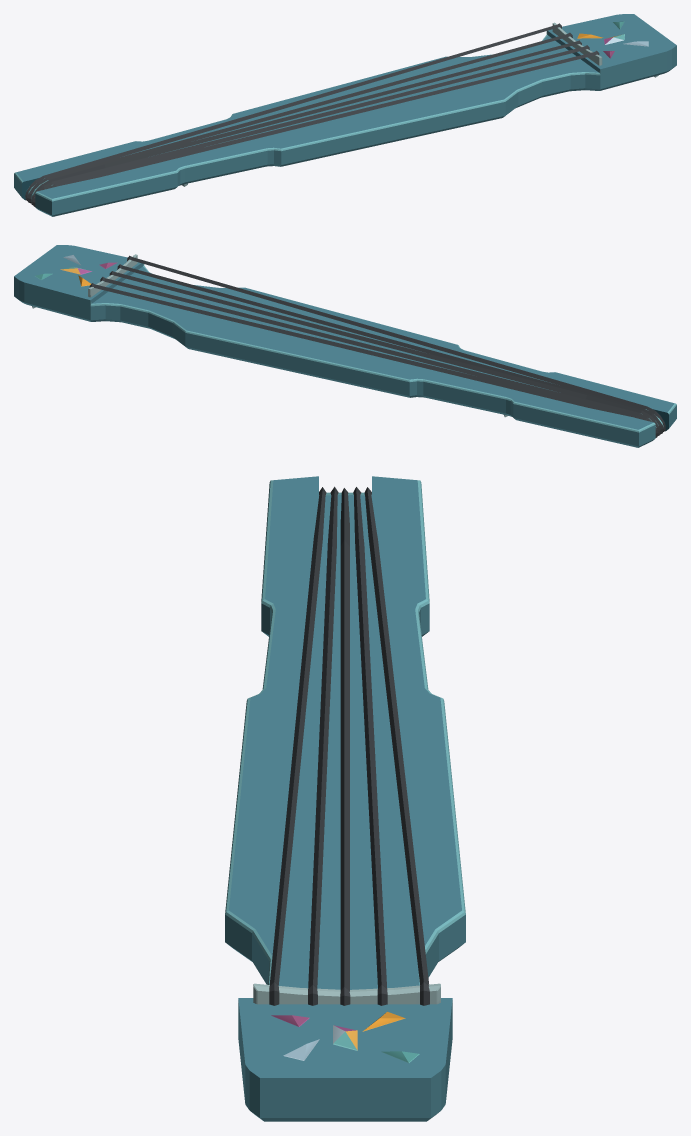
Rendered from Guqin_Jade.fbx.
The picture shows the model from 3 angles, top to bottom: view 1: azimuth 30°, elevation 25°; view 2: azimuth 150°, elevation 25°; view 3: azimuth 270°, elevation 25°; orthographic projection. The views are drawn at different scales.
Visible parts, largest first — view 1: Guqin_Jade; view 2: Guqin_Jade; view 3: Guqin_Jade.
Part boxes in pixels (<box>): Guqin_Jade: <box>14,14,676,216</box>; Guqin_Jade: <box>14,245,676,447</box>; Guqin_Jade: <box>225,476,465,1121</box>.
Size of the model in its own units: 1.2 by 0.0713 by 0.2.
1 material, 1 textured.
